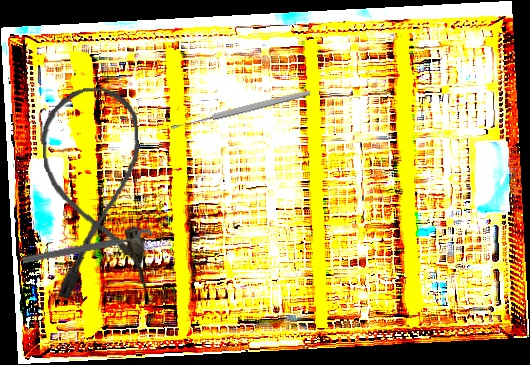Cannula: (38, 84, 150, 300)
Fixation Ring: (21, 227, 155, 275)
Surgical Spoon: (169, 88, 312, 132)
